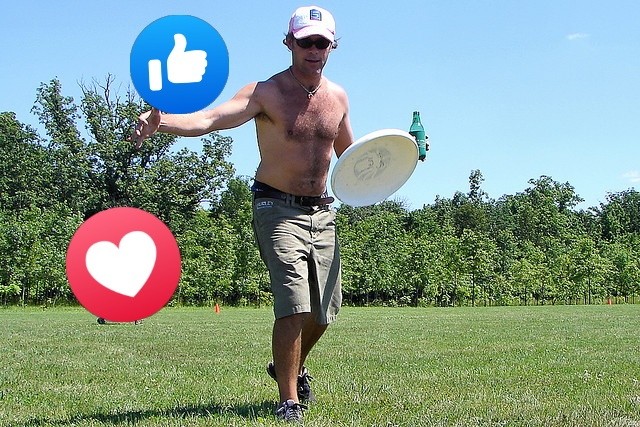like: (130, 15, 229, 114)
love: (66, 207, 181, 322)
